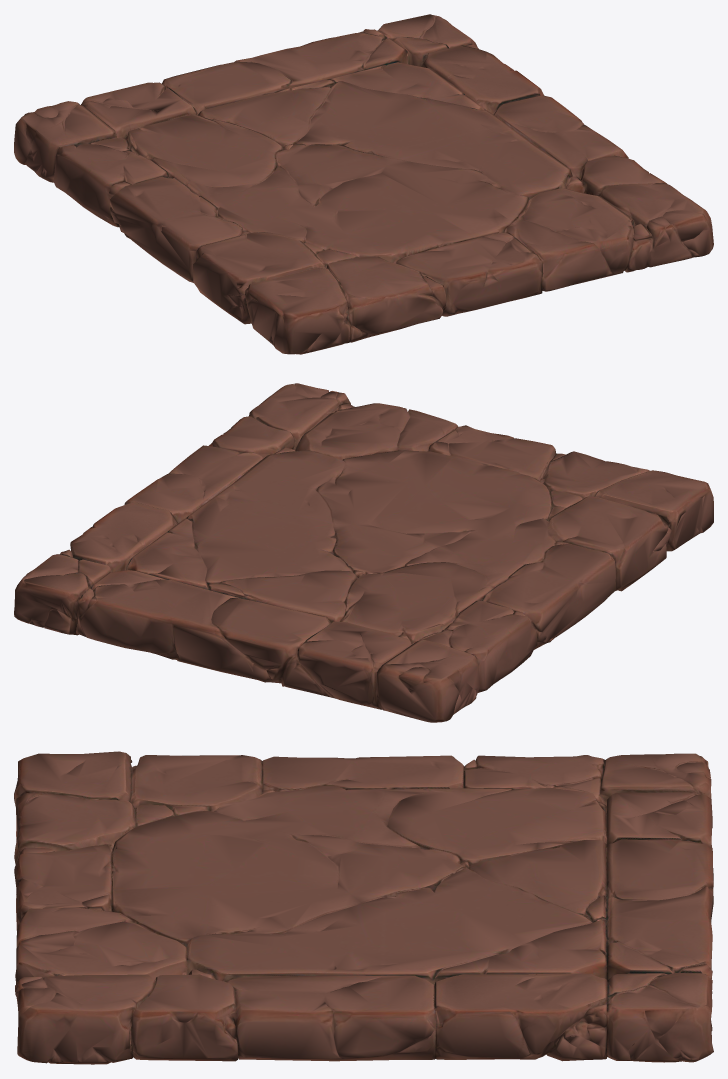
Rendered from plataforma_de_piedra_agrietada.glb.
3 renders of one model, top to bottom at view 1: azimuth 30°, elevation 25°; view 2: azimuth 150°, elevation 25°; view 3: azimuth 270°, elevation 25°, orthographic. The views are drawn at different scales.
Visible parts, largest first — view 1: plataforma_de_piedra_agrietada; view 2: plataforma_de_piedra_agrietada; view 3: plataforma_de_piedra_agrietada.
Boxes of the visible parts, x1,y1,x2,y2 form: plataforma_de_piedra_agrietada: [14, 14, 713, 354]; plataforma_de_piedra_agrietada: [14, 383, 713, 722]; plataforma_de_piedra_agrietada: [14, 751, 713, 1064].
Size of what is drawn, in the model's own units: 2.68 by 0.2729 by 3.
Materials: 1 (1 with a texture image).
